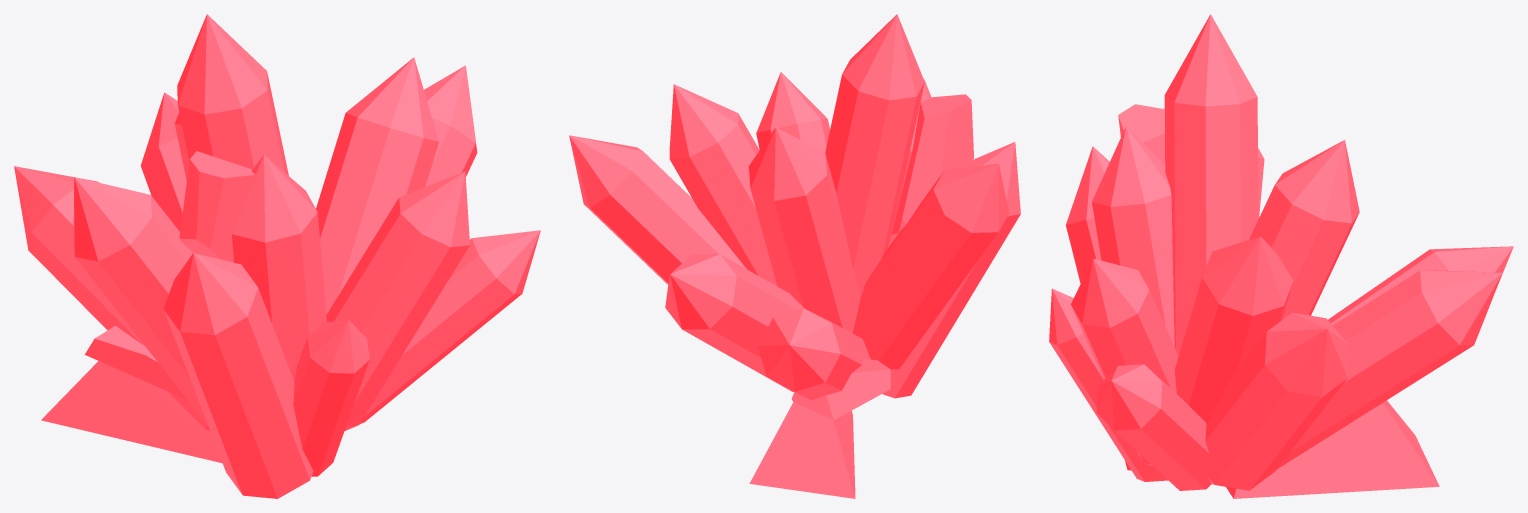
The model's file is SM_EnemyCrystalCells.fbx.
3 renders of one model, left to right at view 1: azimuth 30°, elevation 25°; view 2: azimuth 150°, elevation 25°; view 3: azimuth 270°, elevation 25°, orthographic. The views are drawn at different scales.
Parts seen in each view (by area): view 1: SM_EnemyCrystal, SM_EnemyCrystal_cell.077, SM_EnemyCrystal_cell.024, SM_EnemyCrystal_cell.022, SM_EnemyCrystal_cell.009, SM_EnemyCrystal_cell.035, SM_EnemyCrystal_cell.011, SM_EnemyCrystal_cell.071, SM_EnemyCrystal_cell.070, SM_EnemyCrystal_cell.015, SM_EnemyCrystal_cell.019, SM_EnemyCrystal_cell.038 (+12 smaller); view 2: SM_EnemyCrystal, SM_EnemyCrystal_cell.024, SM_EnemyCrystal_cell.022, SM_EnemyCrystal_cell.015, SM_EnemyCrystal_cell.097, SM_EnemyCrystal_cell.070, SM_EnemyCrystal_cell.077, SM_EnemyCrystal_cell.061, SM_EnemyCrystal_cell.017; view 3: SM_EnemyCrystal, SM_EnemyCrystal_cell.024, SM_EnemyCrystal_cell.086, SM_EnemyCrystal_cell.094, SM_EnemyCrystal_cell.038, SM_EnemyCrystal_cell.043, SM_EnemyCrystal_cell.067, SM_EnemyCrystal_cell.074, SM_EnemyCrystal_cell.061, SM_EnemyCrystal_cell.022, SM_EnemyCrystal_cell.075, SM_EnemyCrystal_cell.019 (+4 smaller).
Part boxes in pixels (x1,y1,x2,y2): SM_EnemyCrystal: [14, 14, 540, 498]; SM_EnemyCrystal_cell.077: [317, 58, 423, 232]; SM_EnemyCrystal_cell.024: [41, 361, 222, 463]; SM_EnemyCrystal_cell.022: [179, 151, 255, 262]; SM_EnemyCrystal_cell.009: [75, 178, 155, 292]; SM_EnemyCrystal_cell.035: [191, 15, 275, 152]; SM_EnemyCrystal_cell.011: [379, 199, 456, 297]; SM_EnemyCrystal_cell.071: [181, 292, 255, 400]; SM_EnemyCrystal_cell.070: [23, 188, 118, 317]; SM_EnemyCrystal_cell.015: [84, 325, 186, 399]; SM_EnemyCrystal_cell.019: [304, 340, 369, 413]; SM_EnemyCrystal_cell.038: [272, 168, 322, 274]; SM_EnemyCrystal: [569, 14, 1020, 400]; SM_EnemyCrystal_cell.024: [749, 402, 855, 498]; SM_EnemyCrystal_cell.022: [891, 94, 973, 234]; SM_EnemyCrystal_cell.015: [791, 358, 890, 420]; SM_EnemyCrystal_cell.097: [793, 159, 842, 259]; SM_EnemyCrystal_cell.070: [813, 323, 856, 362]; SM_EnemyCrystal_cell.077: [679, 90, 759, 199]; SM_EnemyCrystal_cell.061: [773, 308, 844, 332]; SM_EnemyCrystal_cell.017: [781, 326, 814, 360]; SM_EnemyCrystal: [1050, 14, 1513, 490]; SM_EnemyCrystal_cell.024: [1226, 400, 1439, 498]; SM_EnemyCrystal_cell.086: [1336, 270, 1501, 380]; SM_EnemyCrystal_cell.094: [1249, 164, 1333, 289]; SM_EnemyCrystal_cell.038: [1092, 143, 1138, 269]; SM_EnemyCrystal_cell.043: [1241, 330, 1326, 426]; SM_EnemyCrystal_cell.067: [1188, 237, 1259, 361]; SM_EnemyCrystal_cell.074: [1071, 284, 1134, 366]; SM_EnemyCrystal_cell.061: [1338, 248, 1479, 318]; SM_EnemyCrystal_cell.022: [1118, 104, 1165, 165]; SM_EnemyCrystal_cell.075: [1174, 16, 1210, 163]; SM_EnemyCrystal_cell.019: [1049, 317, 1096, 396].
Size of the model in its own units: 420 by 423 by 397.
